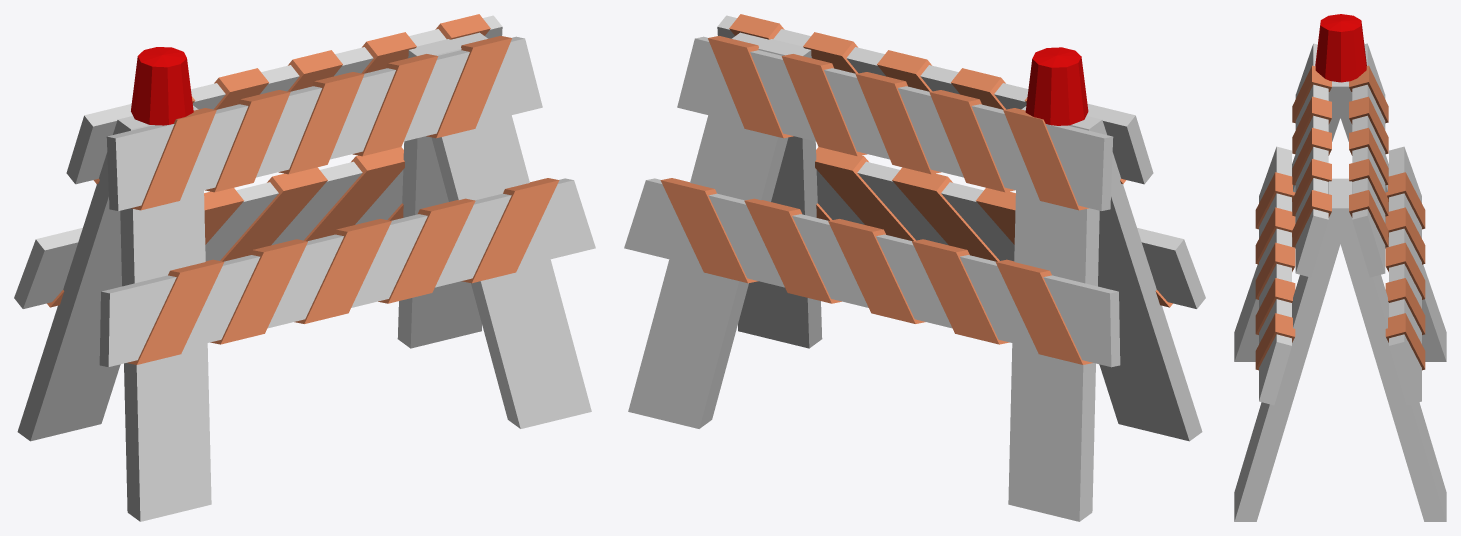
The model's file is RoadBlock.fbx.
The picture shows the model from 3 angles, left to right: view 1: azimuth 30°, elevation 25°; view 2: azimuth 150°, elevation 25°; view 3: azimuth 270°, elevation 25°; orthographic projection. The views are drawn at different scales.
Parts seen in each view (by area): view 1: pCylinder2; view 2: pCylinder2; view 3: pCylinder2.
Boxes of the visible parts, x1,y1,x2,y2 form: pCylinder2: [14, 14, 595, 521]; pCylinder2: [624, 14, 1205, 521]; pCylinder2: [1234, 14, 1446, 521].
Size of the model in its own units: 17.72 by 13.94 by 7.74.
